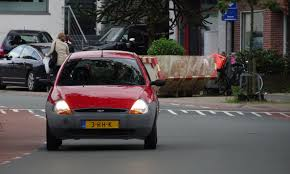car: (40, 49, 161, 152), (1, 41, 54, 90), (90, 24, 162, 53)
